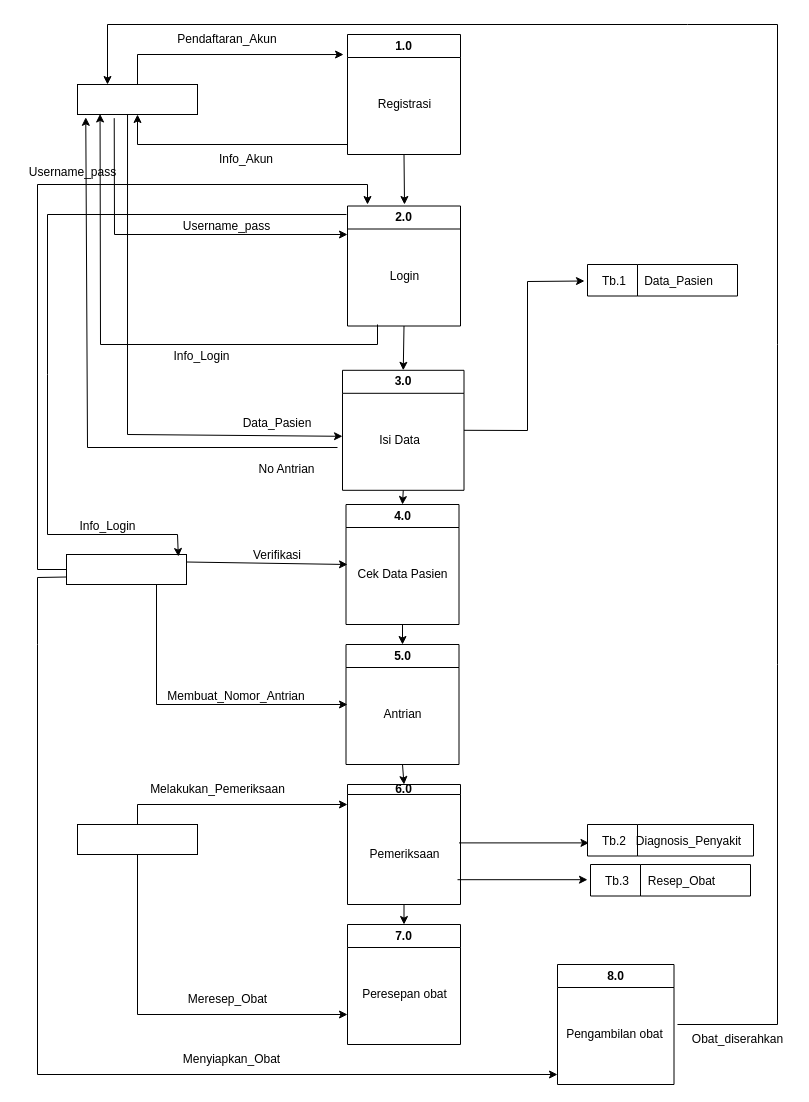
Some shapes in this 809 by 1102 pixel diagram are drawn without their labels. The shapes that lost their labels are listed below. From the top down, each one's centre as x and y in pixels, then its label:
point (137, 99): Pasien
point (126, 569): Resepsionis
point (137, 839): Dokter
